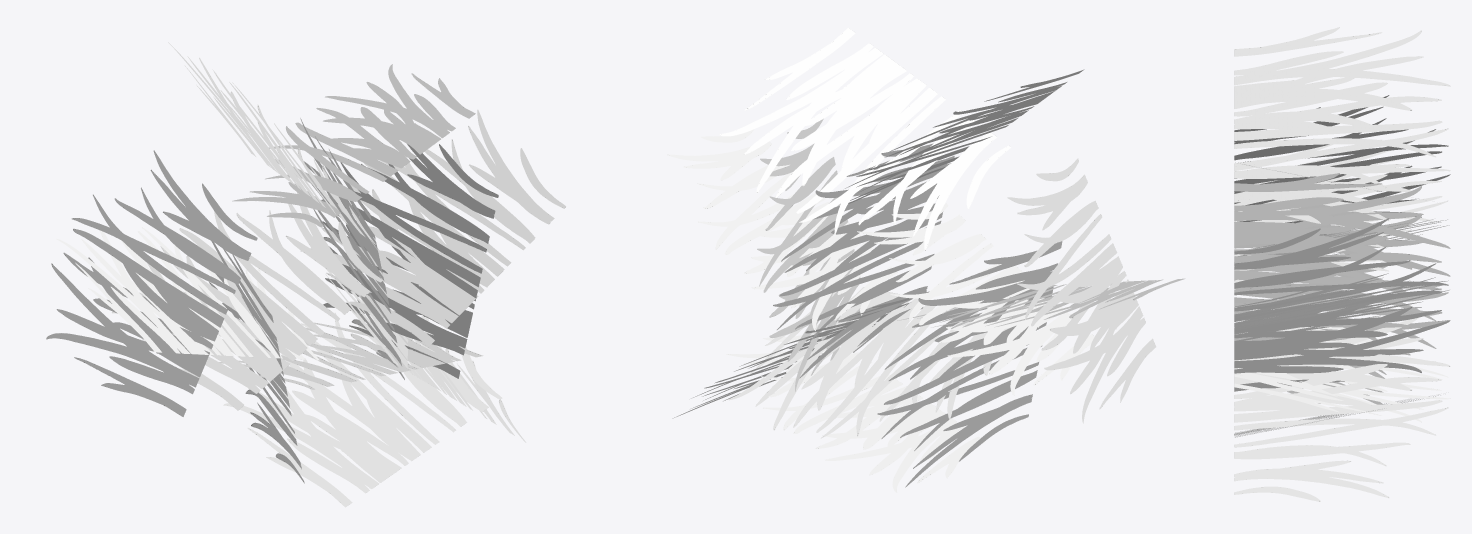
Rendered from grass_tall_xrotate270.fbx.
3 views of the same model, side by side, from view 1: azimuth 30°, elevation 25°; view 2: azimuth 150°, elevation 25°; view 3: azimuth 270°, elevation 25° (orthographic). The views are drawn at different scales.
Visible parts, largest first — view 1: tirlted; view 2: tirlted; view 3: tirlted.
Boxes of the visible parts, x1=… form: tirlted: x1=46, y1=42, x2=565, y2=507; tirlted: x1=667, y1=27, x2=1185, y2=492; tirlted: x1=1234, y1=27, x2=1450, y2=501.
Size of the model in its own units: 206 by 188 by 97.21.
